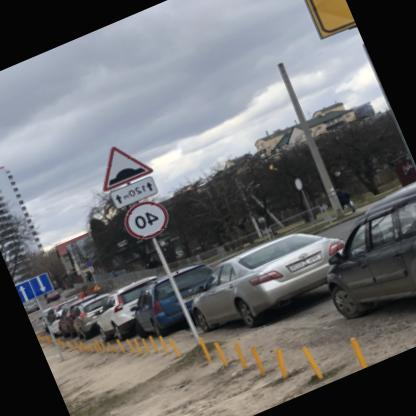speedlimit: (121, 192, 175, 243)
